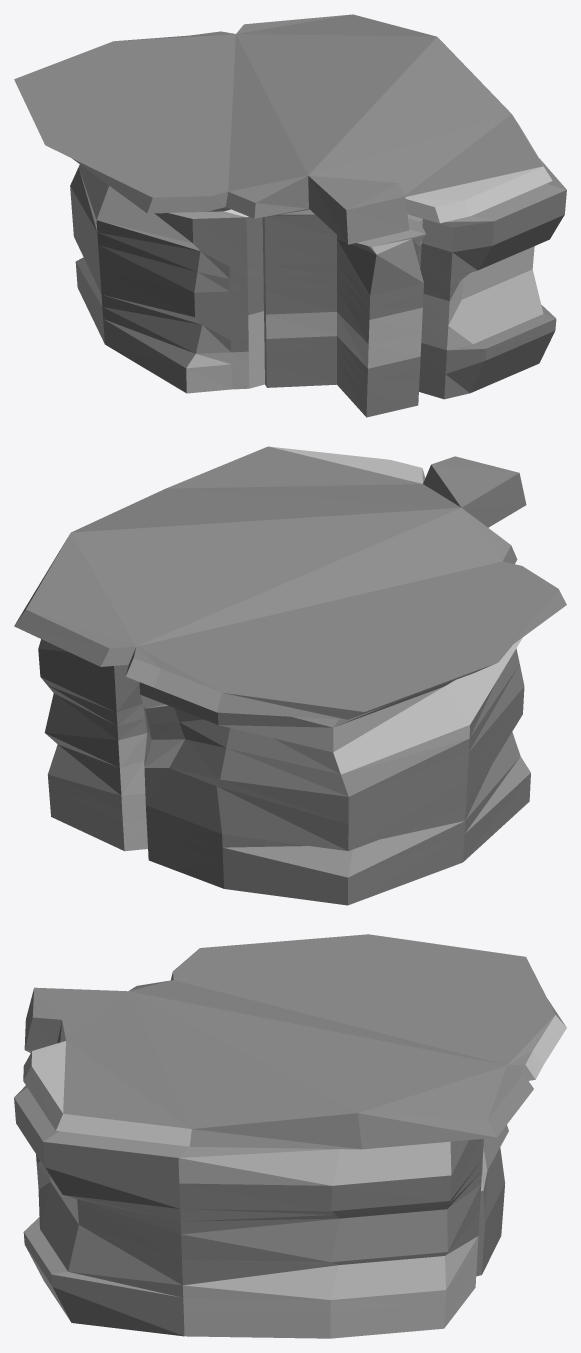
Rendered from rock1.glb.
3 views of the same model, one above another, from view 1: azimuth 30°, elevation 25°; view 2: azimuth 150°, elevation 25°; view 3: azimuth 270°, elevation 25° (orthographic). The views are drawn at different scales.
Size of the model in its own units: 6.08 by 3.23 by 7.07.
Materials: 1 (1 with a texture image).
